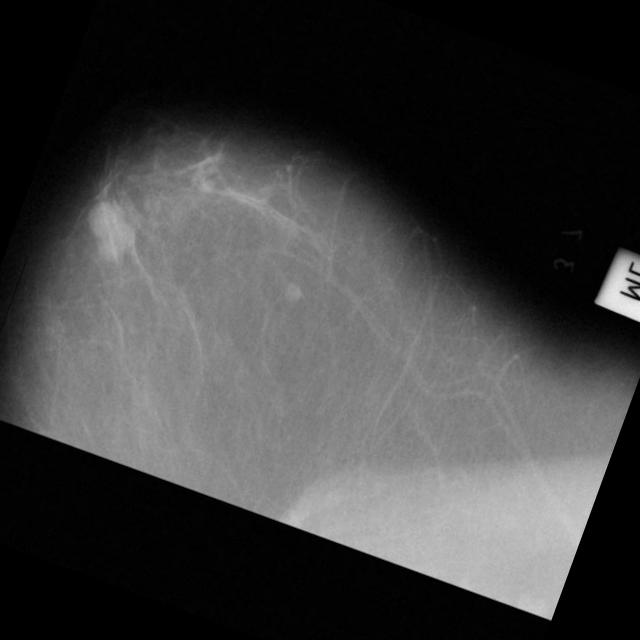CIRC: (80, 194, 130, 243)
